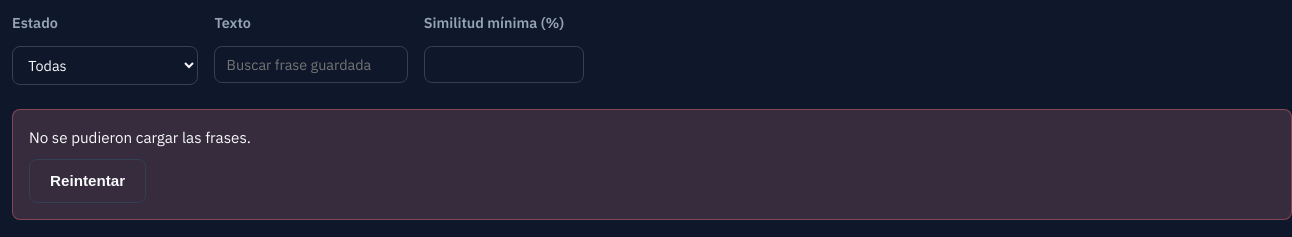
Test: PhraseList › Reintentar re-fetches and, on success, replaces the error with the loaded items
Click the button "Reintentar".
click(88, 181)  # box [29,159,146,203]
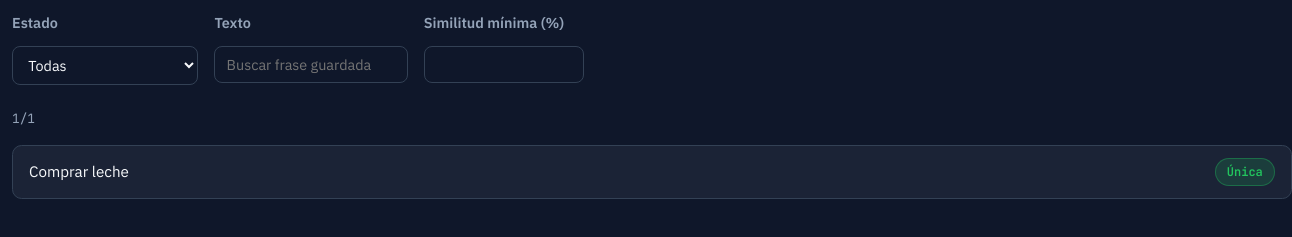
Now the list item shows "Única", box [1227,164,1263,180]
Now the text "No se pudieron cargar las frases." is gone
